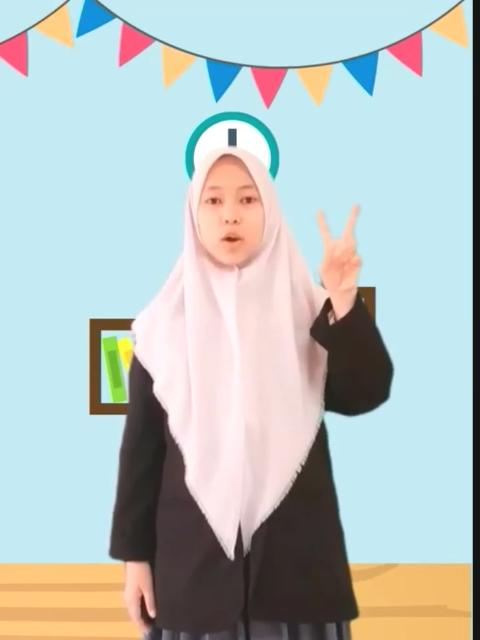V: (318, 200, 368, 298)
